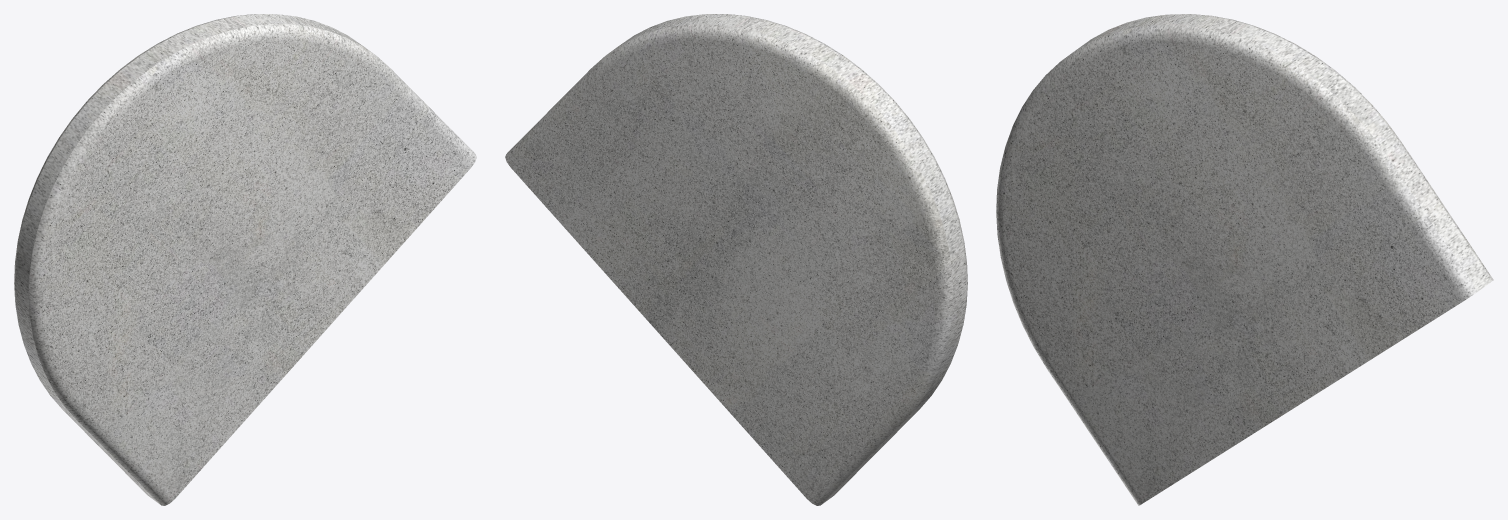
The model's file is A.Item.03.glb.
3 views of the same model, side by side, from view 1: azimuth 30°, elevation 25°; view 2: azimuth 150°, elevation 25°; view 3: azimuth 330°, elevation 25° (orthographic). The views are drawn at different scales.
Visible parts, largest first — view 1: A.Item.03; view 2: A.Item.03; view 3: A.Item.03.
Part boxes in pixels (box(x1,y1,x2,y2)): A.Item.03: box(14, 14, 476, 505); A.Item.03: box(505, 14, 967, 505); A.Item.03: box(996, 14, 1493, 505).
Bounding box in the file's own units: 0.224 × 0.2194 × 0.02.
Materials: 1 (1 with a texture image).
